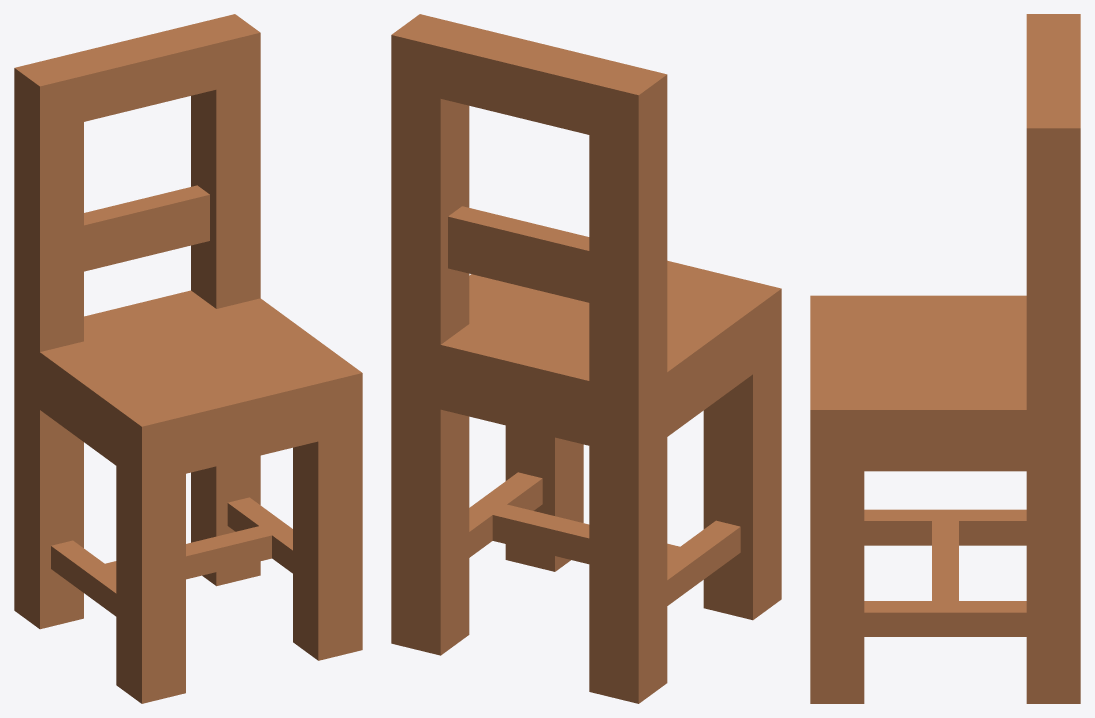
The model's file is furn_chair.glb.
The picture shows the model from 3 angles, left to right: view 1: azimuth 30°, elevation 25°; view 2: azimuth 150°, elevation 25°; view 3: azimuth 270°, elevation 25°; orthographic projection. The views are drawn at different scales.
Parts seen in each view (by area): view 1: chair(Clone); view 2: chair(Clone); view 3: chair(Clone).
Boxes of the visible parts, x1=… form: chair(Clone): x1=14, y1=14, x2=362, y2=703; chair(Clone): x1=391, y1=14, x2=781, y2=703; chair(Clone): x1=810, y1=14, x2=1080, y2=703.
Bounding box in the file's own units: 0.2 × 0.47 × 0.2.
